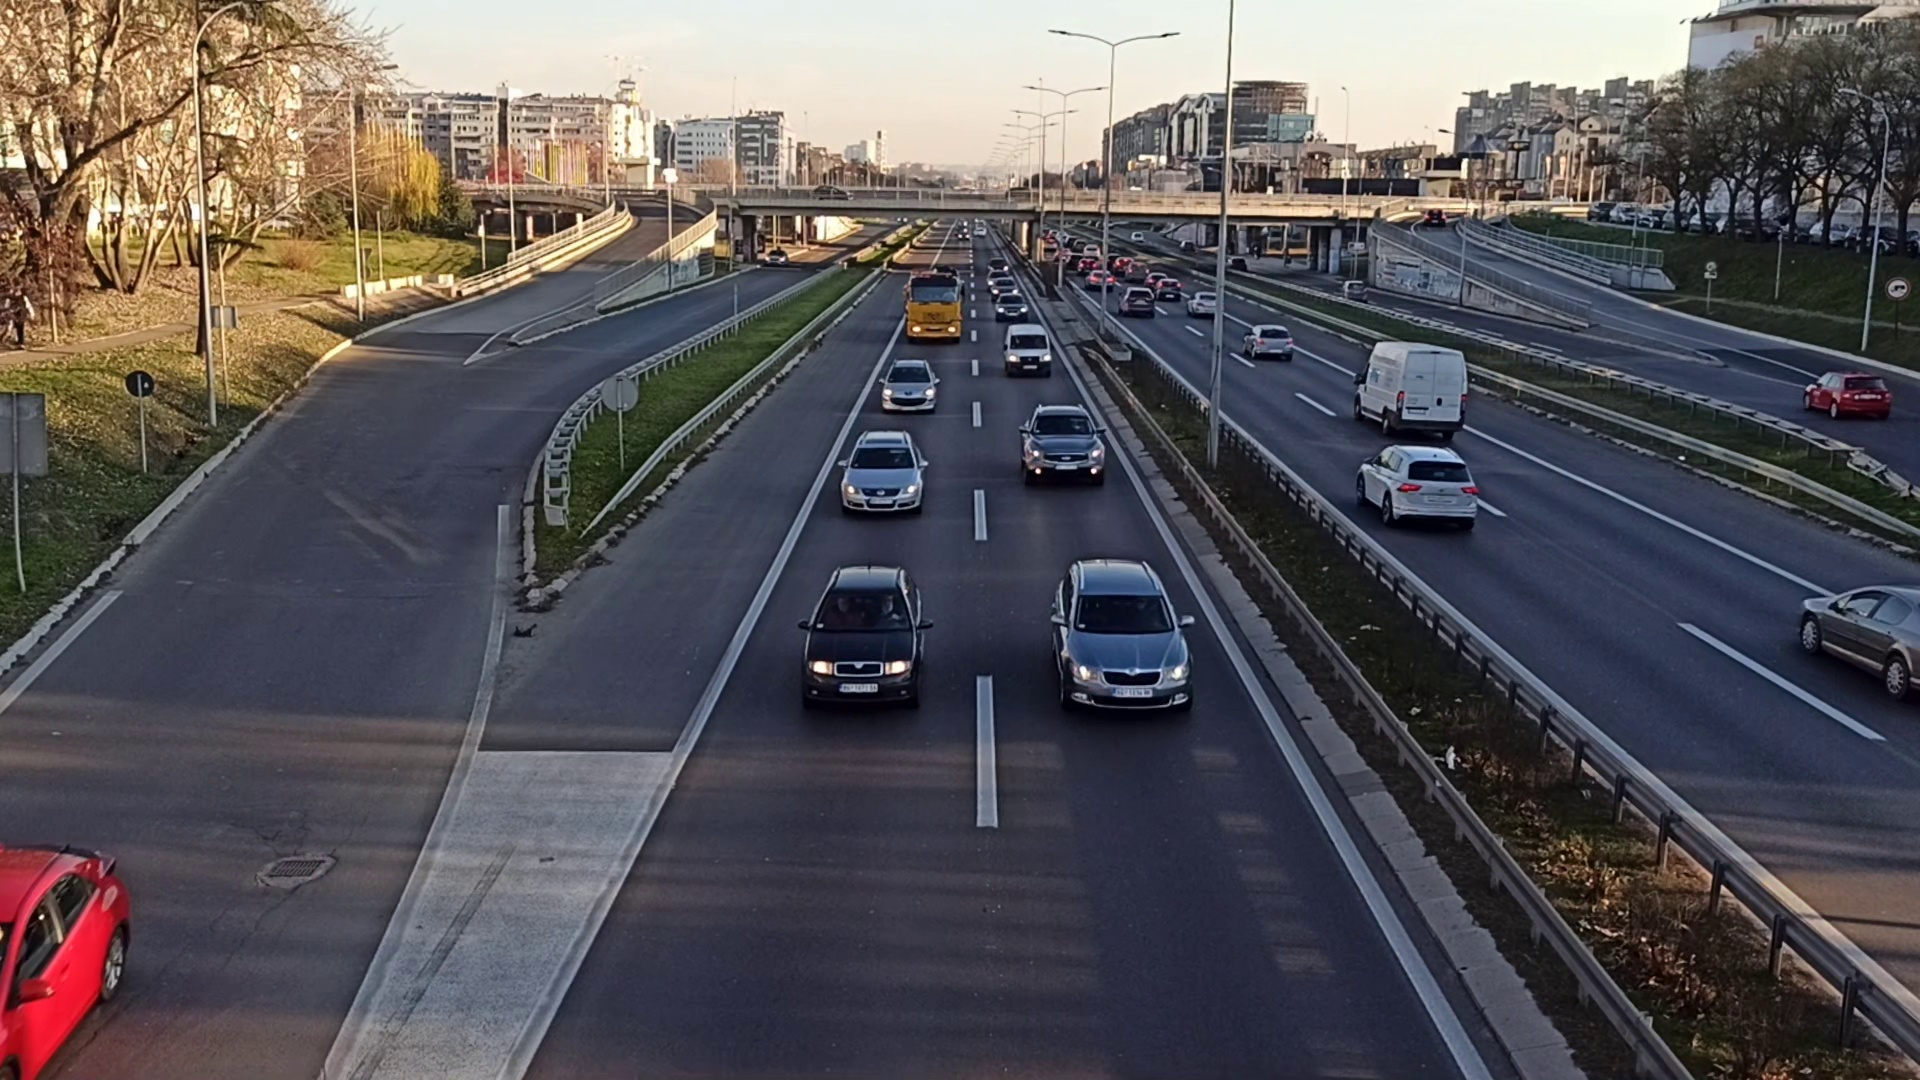car: (1048, 559, 1195, 725), (799, 564, 923, 705), (1801, 583, 1920, 694), (1356, 444, 1478, 535), (840, 430, 927, 514), (1021, 405, 1104, 483), (1803, 369, 1894, 422), (882, 357, 938, 411), (1245, 324, 1294, 363), (996, 293, 1026, 319)
truck: (909, 272, 963, 339)
van: (1356, 339, 1469, 435), (1004, 323, 1048, 376)
